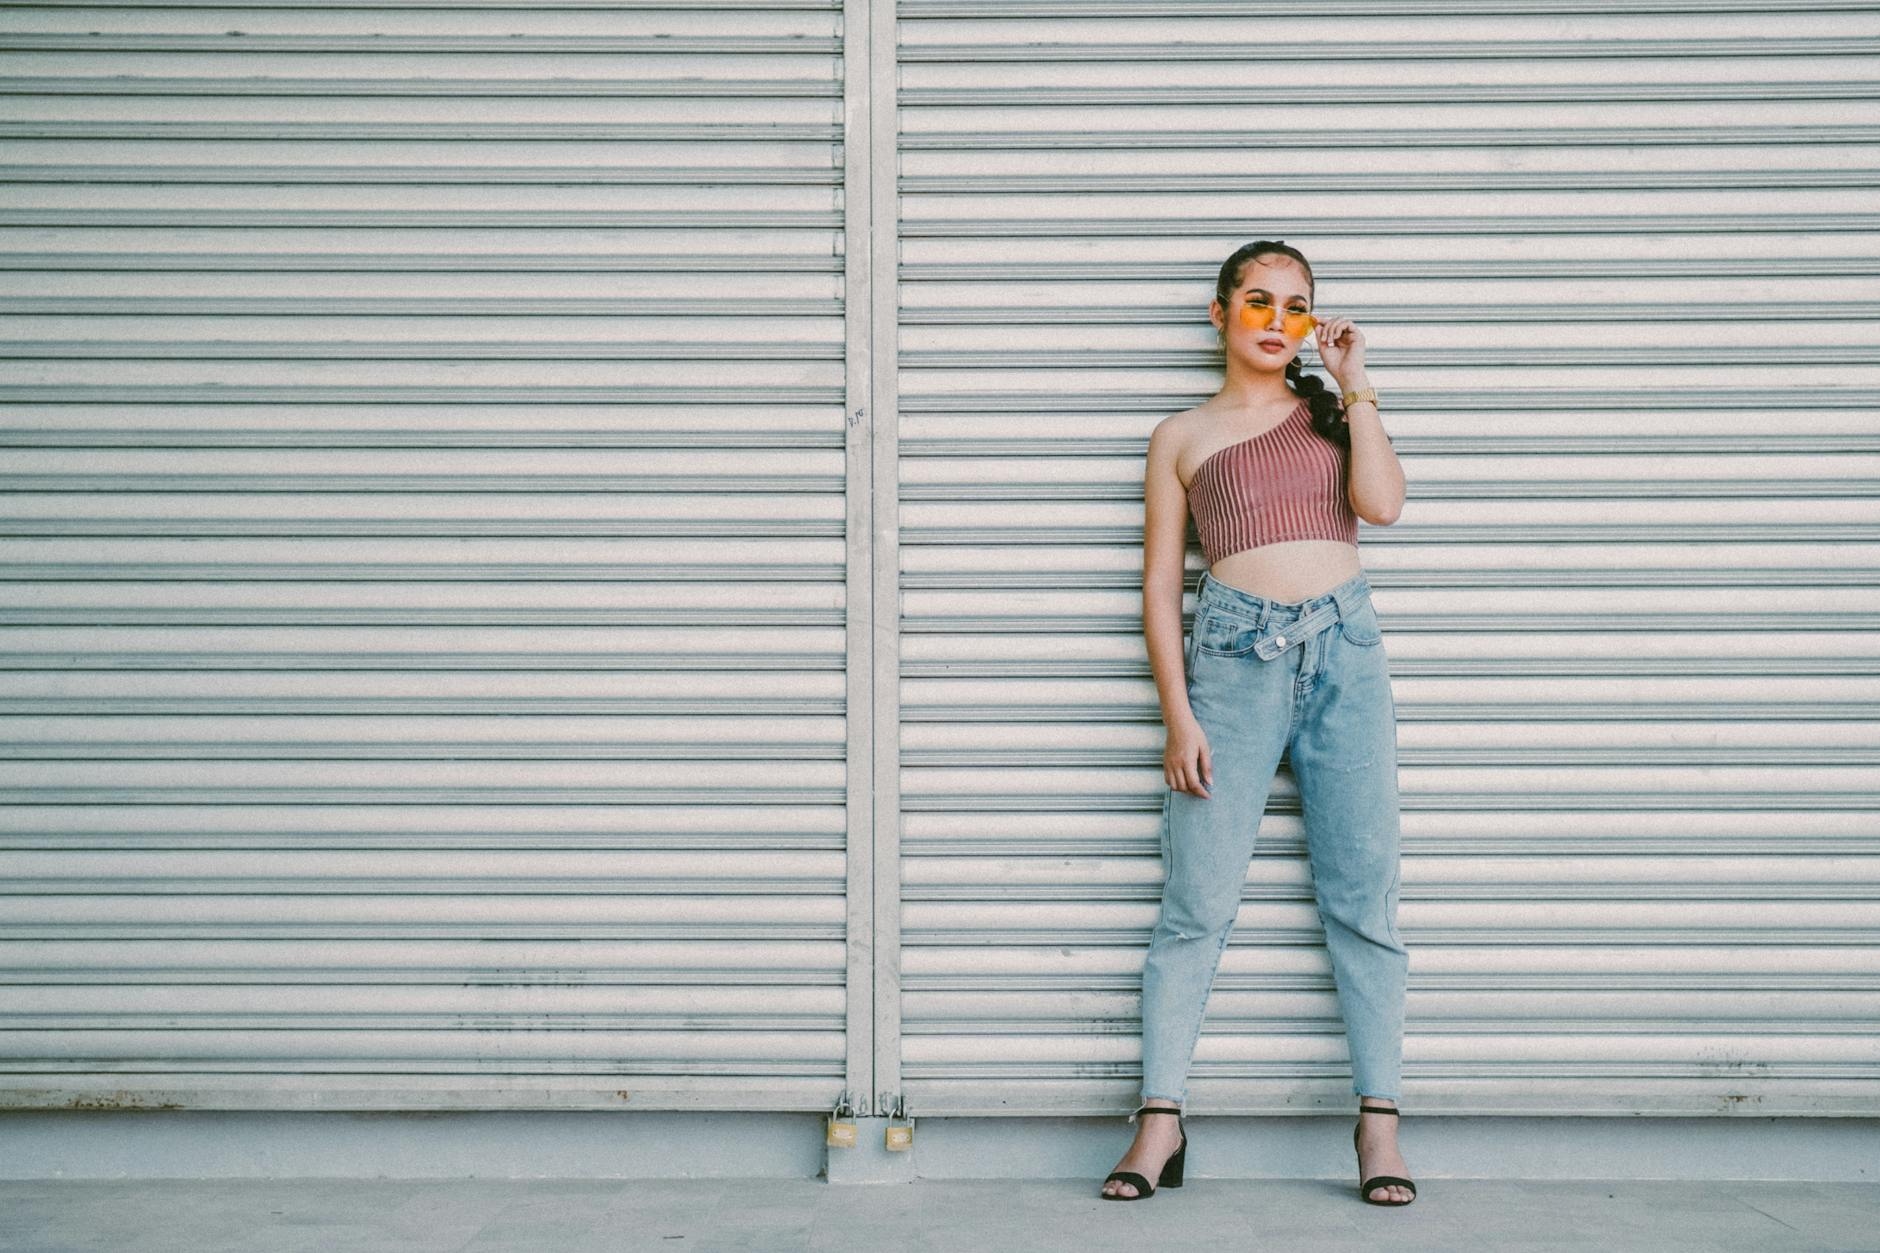crop_top: (1164, 385, 1373, 566)
opened_foot: (1099, 1099, 1192, 1200), (1349, 1101, 1419, 1204)
